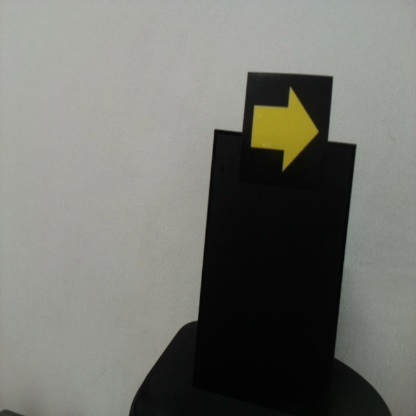id_3: (247, 75, 331, 189)
